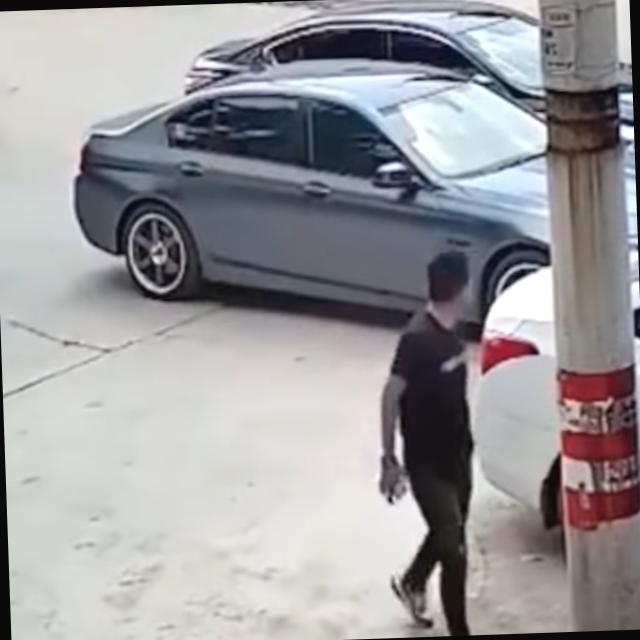person: (370, 249, 485, 637)
